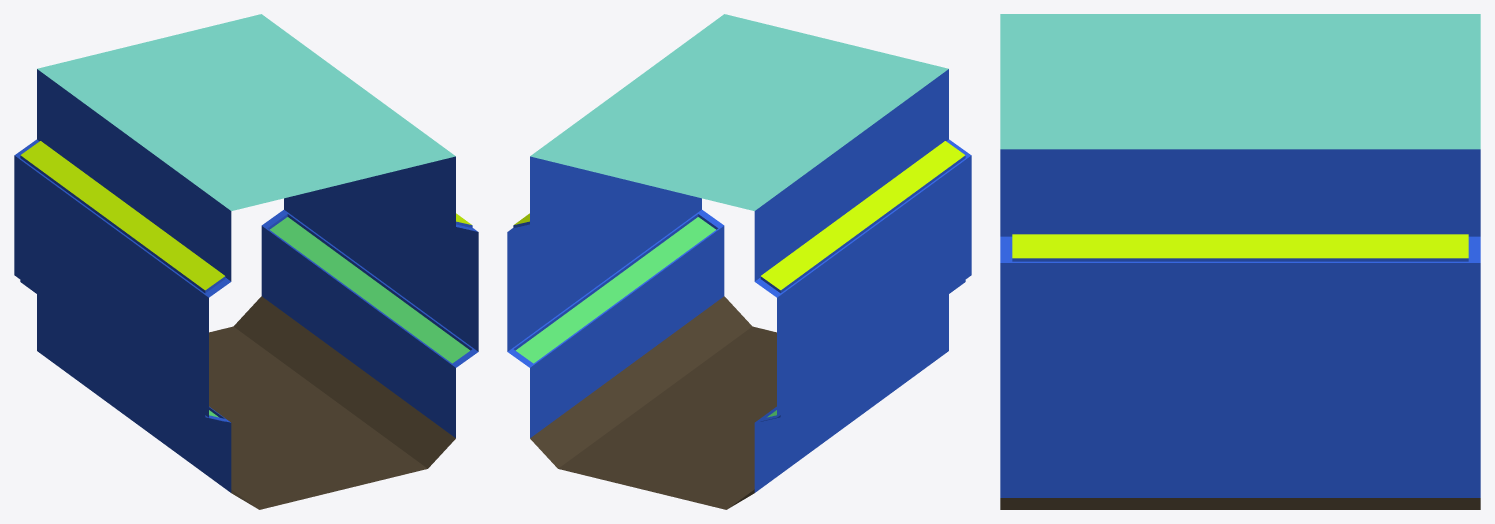
The model's file is Strainght.fbx.
The picture shows the model from 3 angles, left to right: view 1: azimuth 30°, elevation 25°; view 2: azimuth 150°, elevation 25°; view 3: azimuth 270°, elevation 25°; orthographic projection. The views are drawn at different scales.
Parts seen in each view (by area): view 1: Strainght; view 2: Strainght; view 3: Strainght.
Boxes of the visible parts, x1,y1,x2,y2 form: Strainght: (14, 14, 478, 509); Strainght: (507, 14, 971, 509); Strainght: (1000, 14, 1480, 509).
Bounding box in the file's own units: 2.4 × 2.6 × 3.
